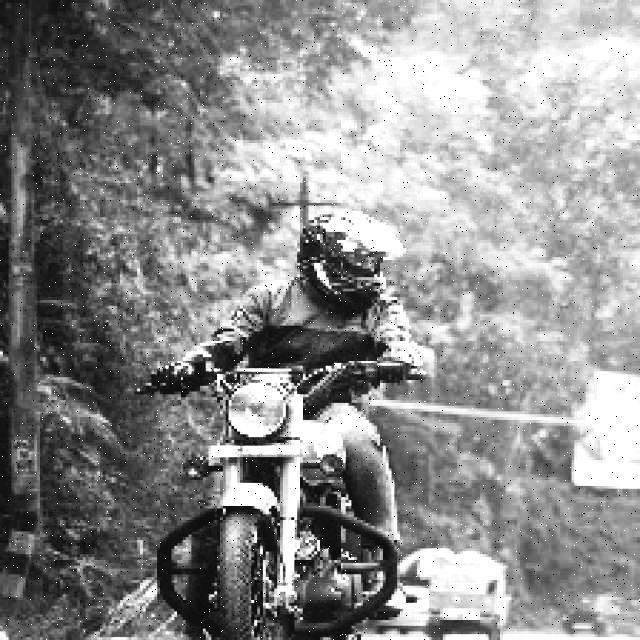Bike: (172, 356, 380, 640)
